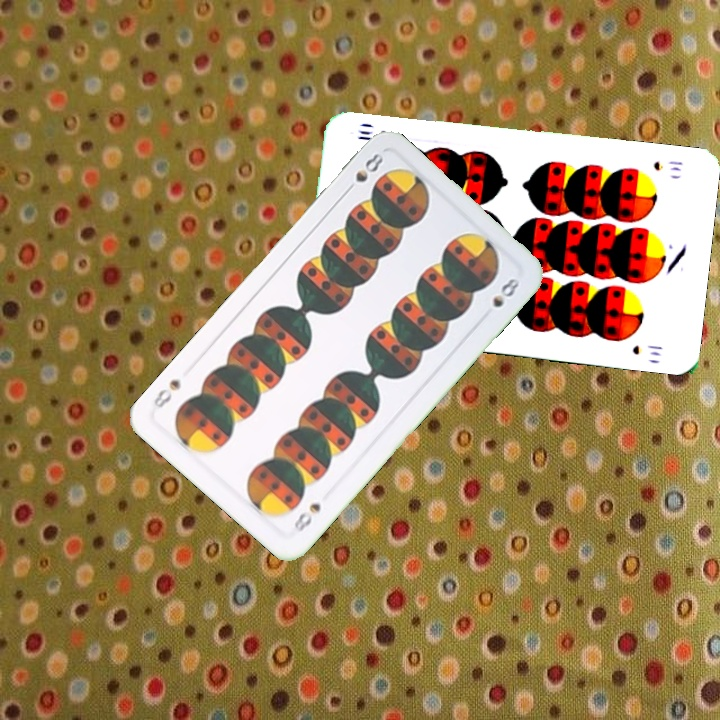S10: (649, 156, 685, 174)
S8: (340, 149, 387, 197), (290, 499, 324, 535)
